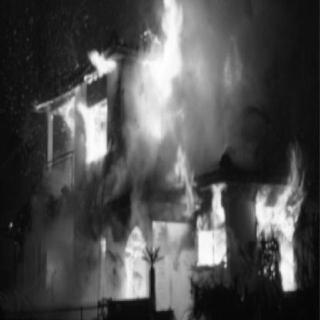Fire: (96, 204, 194, 308)
